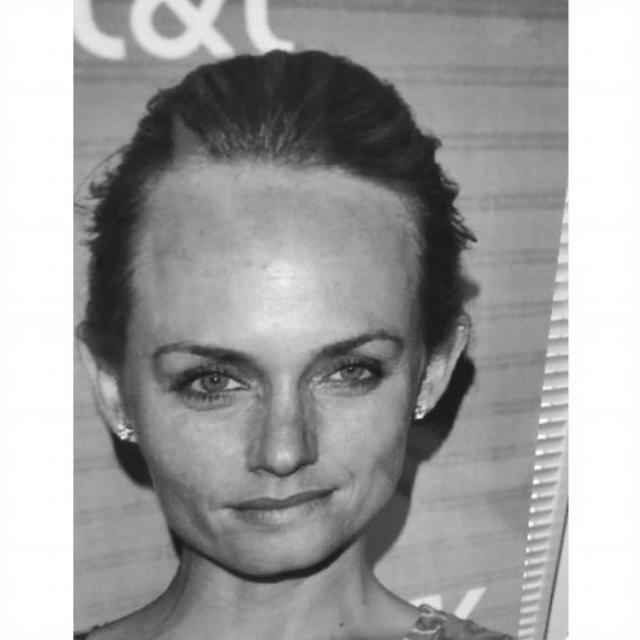fake: (72, 0, 560, 640)
